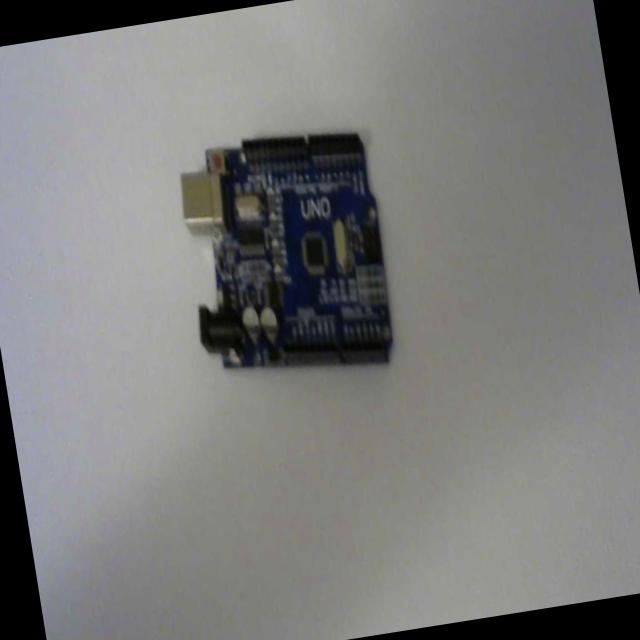arduino: (170, 113, 403, 396)
